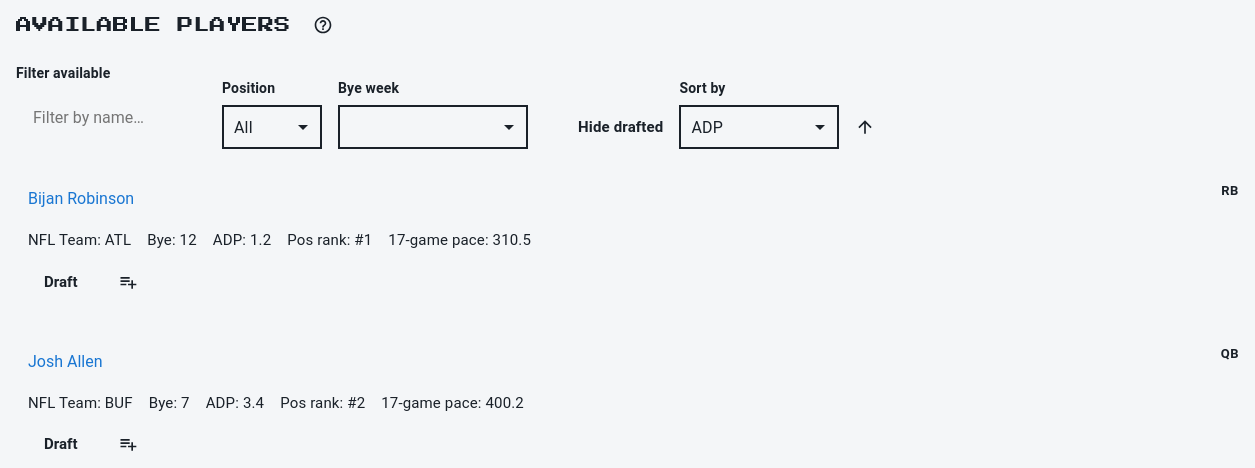
Test: mobile exposes a "Sort by" control naming every field the desktop headers sort by
Click the dropdown named "Sort by" at (707, 127), box [692,118,723,136]
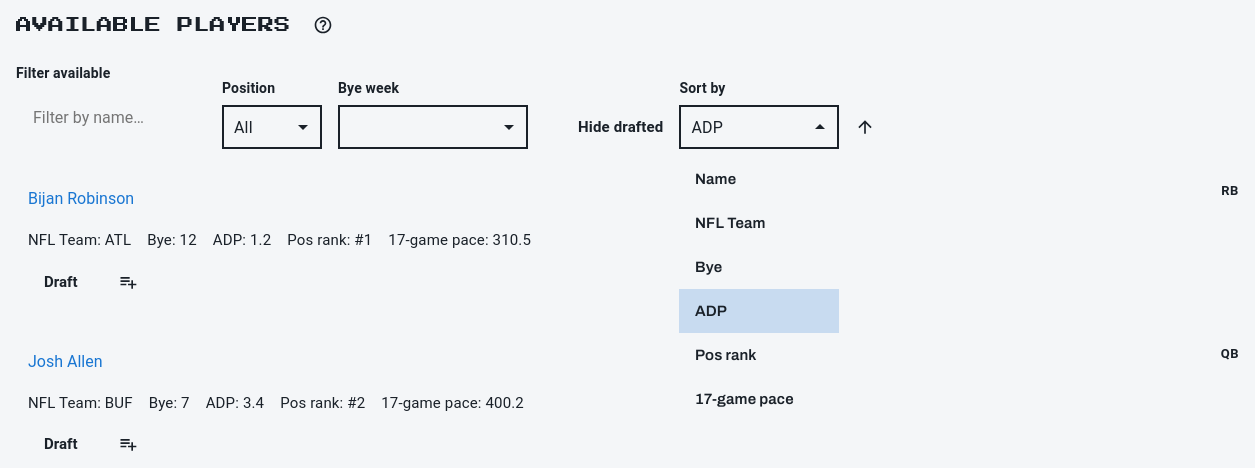
Result: the options read "Name", "NFL Team", "Bye", "ADP", "Pos rank", "17-game pace", in this order at [695,171,736,187]; [695,215,766,231]; [695,259,722,275]; [679,289,839,333]; [695,347,757,363]; [695,391,794,407]
